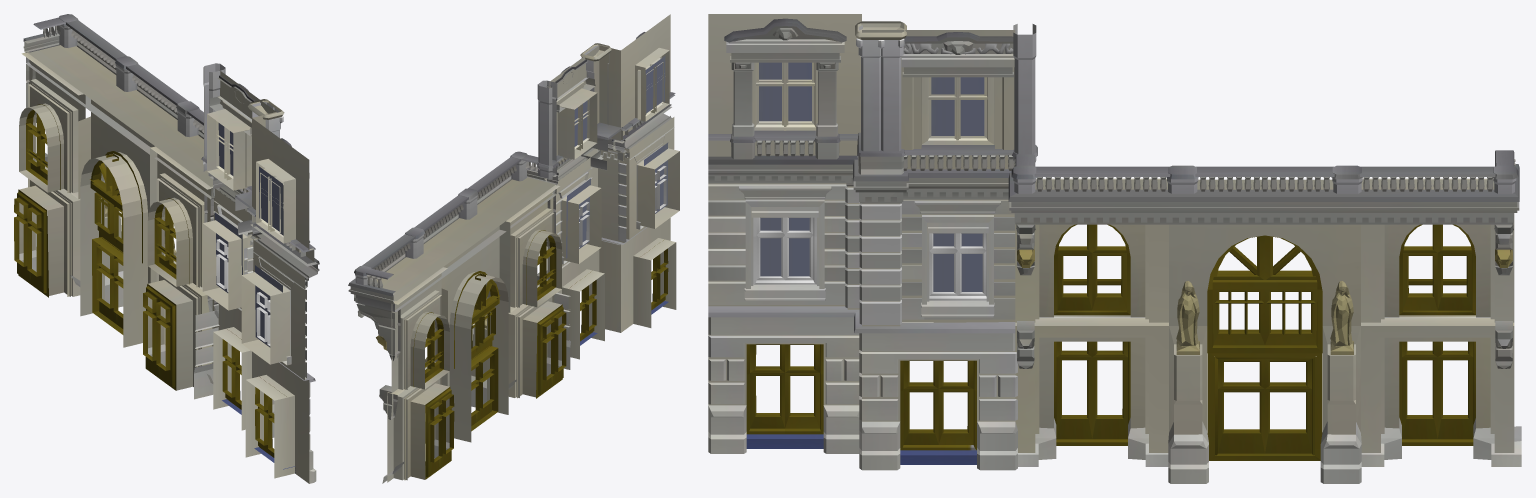
Rendered from building_02.fbx.
3 views of the same model, side by side, from view 1: azimuth 30°, elevation 25°; view 2: azimuth 150°, elevation 25°; view 3: azimuth 270°, elevation 25° (orthographic). The views are drawn at different scales.
Visible parts, largest first — view 1: polySurface839, polySurface287 (×2), polySurface306 (×2), pPlane25, polySurface333, polySurface825, polySurface826, group61_polySurface325, group50_pCube209, Glass_1 (×2), group53_polySurface312, pCube238 (+5 smaller); view 2: polySurface839, polySurface287 (×2), polySurface306 (×2), polySurface333, polySurface825, pPlane25, group61_polySurface325, group50_pCube209, pCube238, polySurface826, Glass_1, group53_polySurface312 (+4 smaller); view 3: polySurface839, polySurface825, pCube238, polySurface826, group53_polySurface312, group50_pCube209, group61_polySurface325, group68_polySurface317, pPlane25, Glass_1 (×2), polySurface333, group50_Window_Frame_Wood_7 (+8 smaller).
Part boxes in pixels (bbox=[...]): polySurface839: bbox=[14, 24, 225, 390]; polySurface287 (×2): bbox=[202, 188, 304, 380]; polySurface306 (×2): bbox=[213, 304, 309, 483]; pPlane25: bbox=[252, 118, 314, 261]; polySurface333: bbox=[207, 70, 276, 221]; polySurface825: bbox=[203, 63, 284, 236]; polySurface826: bbox=[194, 310, 274, 437]; group61_polySurface325: bbox=[23, 14, 217, 180]; group50_pCube209: bbox=[244, 224, 319, 379]; Glass_1 (×2): bbox=[218, 123, 283, 235]; group53_polySurface312: bbox=[254, 376, 316, 483]; pCube238: bbox=[213, 187, 253, 310]; polySurface839: bbox=[348, 161, 566, 483]; polySurface287 (×2): bbox=[555, 117, 679, 268]; polySurface306 (×2): bbox=[557, 218, 676, 359]; polySurface333: bbox=[549, 45, 620, 164]; polySurface825: bbox=[537, 43, 625, 182]; pPlane25: bbox=[621, 14, 670, 135]; group61_polySurface325: bbox=[348, 151, 558, 296]; group50_pCube209: bbox=[612, 106, 674, 242]; pCube238: bbox=[556, 147, 625, 268]; polySurface826: bbox=[554, 272, 597, 369]; Glass_1: bbox=[645, 55, 665, 113]; group53_polySurface312: bbox=[616, 240, 668, 332]; polySurface839: bbox=[1009, 159, 1521, 483]; polySurface825: bbox=[853, 21, 1036, 192]; pCube238: bbox=[859, 189, 1015, 324]; polySurface826: bbox=[859, 333, 1017, 470]; group53_polySurface312: bbox=[708, 317, 859, 453]; group50_pCube209: bbox=[708, 164, 859, 308]; group61_polySurface325: bbox=[1008, 150, 1519, 201]; group68_polySurface317: bbox=[726, 26, 844, 159]; pPlane25: bbox=[708, 14, 861, 156]; Glass_1 (×2): bbox=[759, 62, 984, 135]; polySurface333: bbox=[862, 30, 1015, 169]; group50_Window_Frame_Wood_7: bbox=[708, 155, 857, 284].
Size of the model in its own units: 374 by 1252 by 2119.
2 materials, 1 textured.
